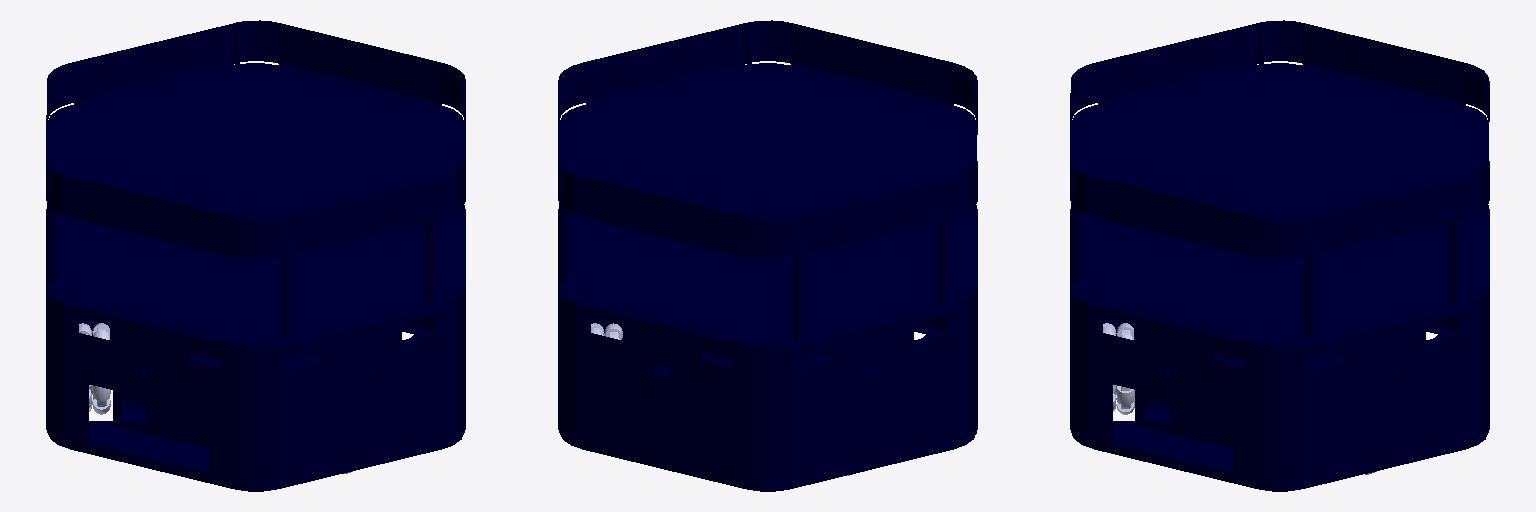
The robot description file, URDF, robot "Pol_Gazebo_screen":
<?xml version="1.0" encoding="utf-8"?>
<!-- This URDF was automatically created by SolidWorks to URDF Exporter! Originally created by [author] ([email redacted]) 
     Commit Version: 1.6.0-1-g15f4949  Build Version: 1.6.7594.29634
     For more information, please see http://wiki.ros.org/sw_urdf_exporter -->
<robot
  name="Pol_Gazebo_screen">
  <link
    name="base_link">
    <inertial>
      <origin
        xyz="0.00356908133816926 -0.00222073760932315 0.133841847975264"
        rpy="0 0 0" />
      <mass
        value="11.6226437512049" />
      <inertia
        ixx="0.127810000691284"
        ixy="0.000472332443139128"
        ixz="0.000636561009714243"
        iyy="0.128340502163688"
        iyz="0.000444108473671707"
        izz="0.234546201659624" />
    </inertial>
    <visual>
      <origin
        xyz="0 0 0"
        rpy="0 0 0" />
      <geometry>
        <mesh
          filename="package://Pol_Gazebo_screen/meshes/base_link.STL" />
      </geometry>
      <material
        name="">
        <color
          rgba="0 0 0.25 1" />
      </material>
    </visual>
    <collision>
      <origin
        xyz="0 0 0"
        rpy="0 0 0" />
      <geometry>
        <mesh
          filename="package://Pol_Gazebo_screen/meshes/base_link.STL" />
      </geometry>
    </collision>
  </link>
  <link
    name="M1">
    <inertial>
      <origin
        xyz="-0.153007981354712 0.0883387528868498 0.0287003600239704"
        rpy="0 0 0" />
      <mass
        value="0.190406572773292" />
      <inertia
        ixx="8.2519559593688E-05"
        ixy="-1.84334703282559E-05"
        ixz="4.83042806388114E-11"
        iyy="6.12344158193163E-05"
        iyz="1.06649032857164E-10"
        izz="5.05911493223384E-05" />
    </inertial>
    <visual>
      <origin
        xyz="0 0 0"
        rpy="0 0 0" />
      <geometry>
        <mesh
          filename="package://Pol_Gazebo_screen/meshes/M1.STL" />
      </geometry>
      <material
        name="">
        <color
          rgba="0.792156862745098 0.819607843137255 0.933333333333333 1" />
      </material>
    </visual>
    <collision>
      <origin
        xyz="0 0 0"
        rpy="0 0 0" />
      <geometry>
        <mesh
          filename="package://Pol_Gazebo_screen/meshes/M1.STL" />
      </geometry>
    </collision>
  </link>
  <joint
    name="joint_left"
    type="revolute">
    <origin
      xyz="0 0 0"
      rpy="0 0 0" />
    <parent
      link="base_link" />
    <child
      link="M1" />
    <axis
      xyz="-0.86603 0.5 0" />
    <limit
      lower="0"
      upper="0"
      effort="30"
      velocity="30" />
  </joint>
  <link
    name="M3">
    <inertial>
      <origin
        xyz="0.152995792760896 0.0883597247812082 0.0287791512343051"
        rpy="0 0 0" />
      <mass
        value="0.190406799241796" />
      <inertia
        ixx="8.25195204553206E-05"
        ixy="1.8433618603247E-05"
        ixz="1.59498412064907E-10"
        iyy="6.12341904194763E-05"
        iyz="-2.9171427217004E-10"
        izz="5.05914996066593E-05" />
    </inertial>
    <visual>
      <origin
        xyz="0 0 0"
        rpy="0 0 0" />
      <geometry>
        <mesh
          filename="package://Pol_Gazebo_screen/meshes/M3.STL" />
      </geometry>
      <material
        name="">
        <color
          rgba="0.792156862745098 0.819607843137255 0.933333333333333 1" />
      </material>
    </visual>
    <collision>
      <origin
        xyz="0 0 0"
        rpy="0 0 0" />
      <geometry>
        <mesh
          filename="package://Pol_Gazebo_screen/meshes/M3.STL" />
      </geometry>
    </collision>
  </link>
  <joint
    name="joint_right"
    type="revolute">
    <origin
      xyz="0 0 0"
      rpy="0 0 0" />
    <parent
      link="base_link" />
    <child
      link="M3" />
    <axis
      xyz="0.86603 0.5 0" />
    <limit
      lower="0"
      upper="0"
      effort="30"
      velocity="30" />
  </joint>
  <link
    name="M2">
    <inertial>
      <origin
        xyz="-4.22442162838488E-05 -0.176640014527797 0.0287419523189644"
        rpy="0 0 0" />
      <mass
        value="0.190406593721018" />
      <inertia
        ixx="5.05915481608335E-05"
        ixy="-5.68820758351581E-12"
        ixz="3.60627062469778E-10"
        iyy="9.31621300589302E-05"
        iyz="8.14828361109055E-12"
        izz="5.05914527637891E-05" />
    </inertial>
    <visual>
      <origin
        xyz="0 0 0"
        rpy="0 0 0" />
      <geometry>
        <mesh
          filename="package://Pol_Gazebo_screen/meshes/M2.STL" />
      </geometry>
      <material
        name="">
        <color
          rgba="0.792156862745098 0.819607843137255 0.933333333333333 1" />
      </material>
    </visual>
    <collision>
      <origin
        xyz="0 0 0"
        rpy="0 0 0" />
      <geometry>
        <mesh
          filename="package://Pol_Gazebo_screen/meshes/M2.STL" />
      </geometry>
    </collision>
  </link>
  <joint
    name="Joint_back"
    type="revolute">
    <origin
      xyz="0 0 0"
      rpy="0 0 0" />
    <parent
      link="base_link" />
    <child
      link="M2" />
    <axis
      xyz="0 -1 0" />
    <limit
      lower="0"
      upper="0"
      effort="30"
      velocity="30" />
  </joint>
</robot>

--- Facts derived from the render (not from the file) ---
3 views of the same robot in one strip: view 1: azimuth 30°, elevation 25°; view 2: azimuth 150°, elevation 25°; view 3: azimuth 270°, elevation 25° (orthographic).
Model Pol_Gazebo_screen with 4 links and 3 joints (3 revolute), rooted at base_link, posed all joints at 0.
Links seen in each view (by area): view 1: base_link, M1; view 2: base_link; view 3: base_link, M2.
Boxes of the visible links, x1,y1,x2,y2 form: base_link: (46,20,465,491); M1: (79,323,110,414); base_link: (558,20,977,491); base_link: (1070,20,1489,491); M2: (1103,323,1134,414).
Size in the robot's own frame: 0.5071 by 0.4531 by 0.3465 metres.
4 mesh visuals loaded from 4 distinct referenced files (4 binary STL).
